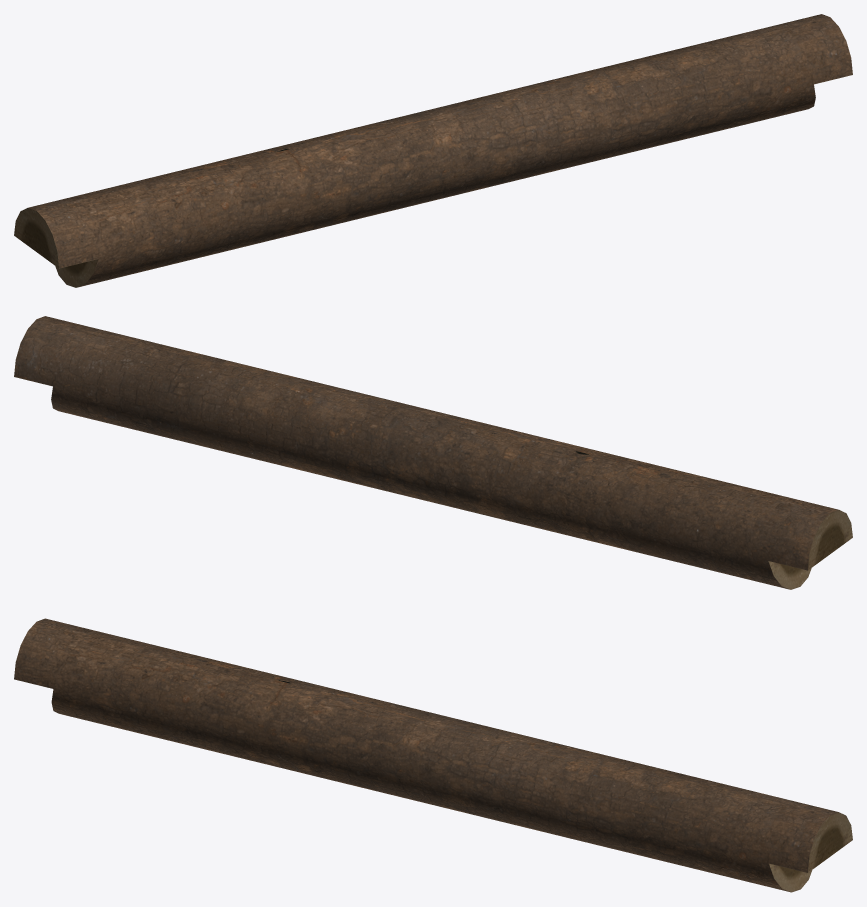
The model's file is ThreeSupportBB.glb.
The picture shows the model from 3 angles, top to bottom: view 1: azimuth 30°, elevation 25°; view 2: azimuth 150°, elevation 25°; view 3: azimuth 330°, elevation 25°; orthographic projection.
Parts seen in each view (by area): view 1: ThreeSupportBB; view 2: ThreeSupportBB; view 3: ThreeSupportBB.
Part boxes in pixels (x1,y1,x2,y2): ThreeSupportBB: [14, 14, 852, 287]; ThreeSupportBB: [14, 316, 852, 589]; ThreeSupportBB: [14, 618, 852, 892].
Bounding box in the file's own units: 2.03 × 0.1985 × 0.2.
1 material, 1 textured.
